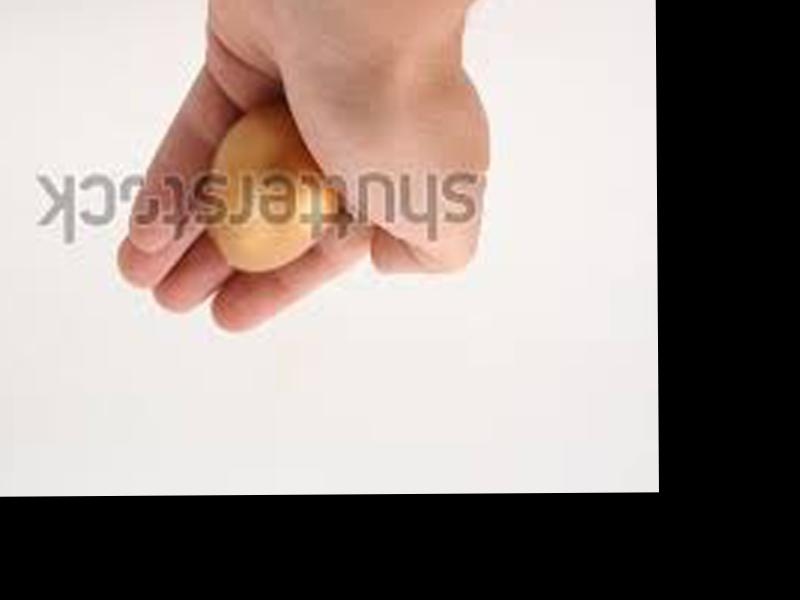Eggs: (208, 107, 334, 271)
